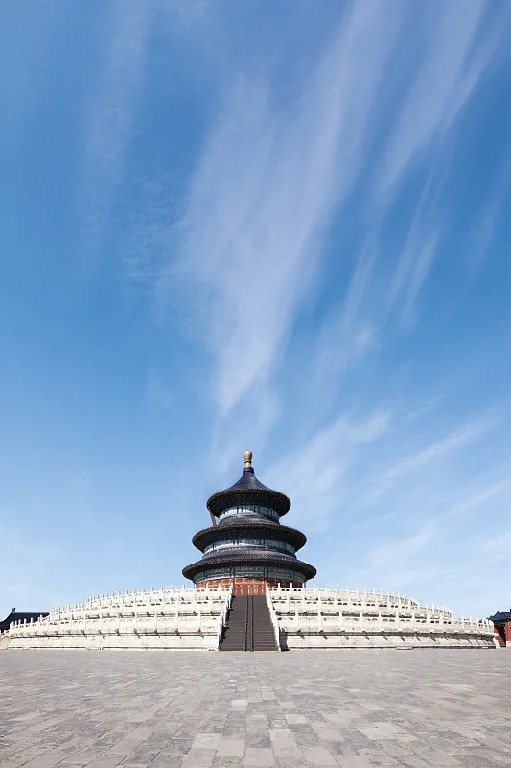Heaven: (179, 450, 317, 594)
